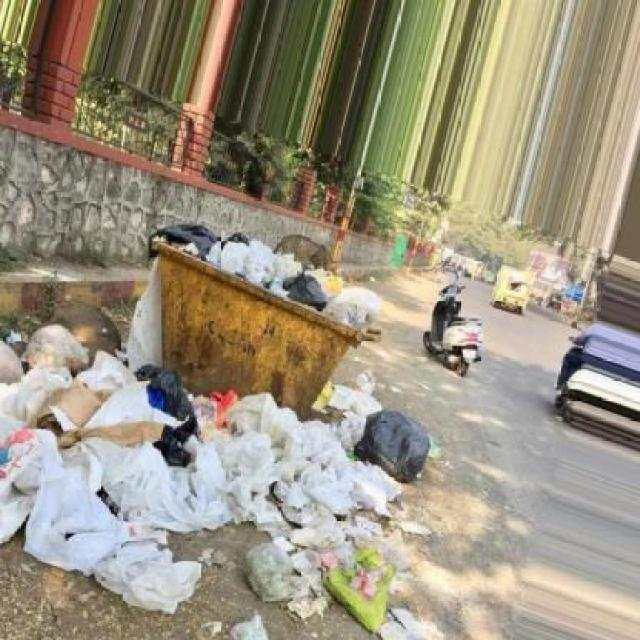garbage: (0, 296, 432, 639), (120, 205, 276, 325), (277, 257, 400, 320)
